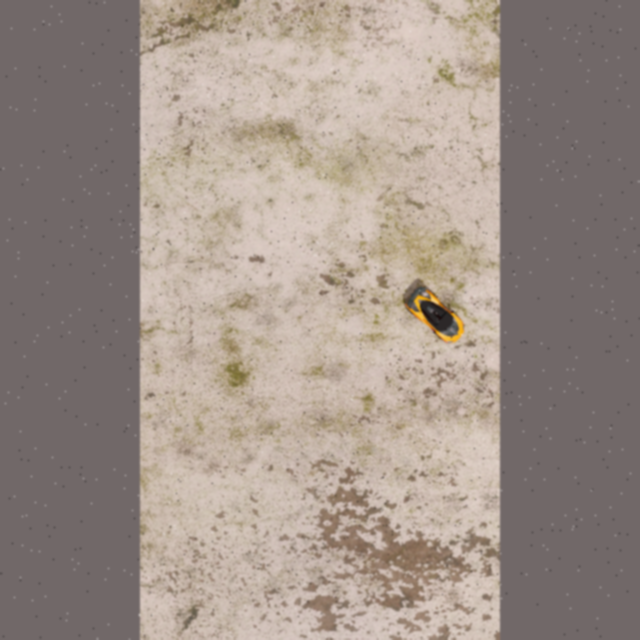car: (399, 282, 472, 350)
